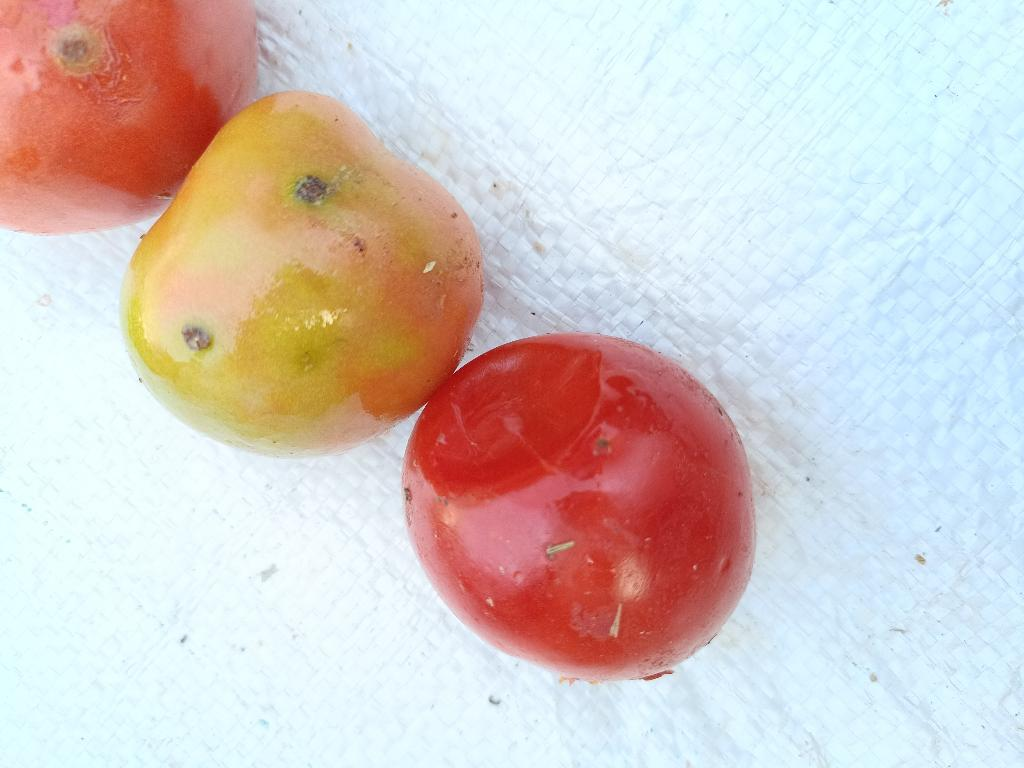bruise_discoloration: (415, 345, 598, 497)
rot_mold_decay: (609, 603, 622, 638)
surface_damage: (54, 25, 102, 74), (295, 175, 328, 205), (182, 324, 211, 351), (546, 540, 575, 558), (594, 437, 611, 455)
tomato: (122, 92, 483, 454), (402, 333, 755, 681), (0, 0, 256, 233)
